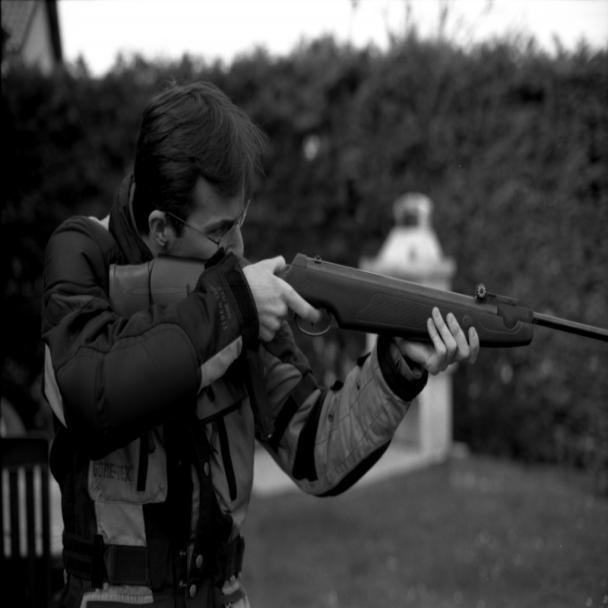Gun: (75, 224, 608, 370)
Hand: (232, 244, 324, 362), (398, 305, 497, 399)
